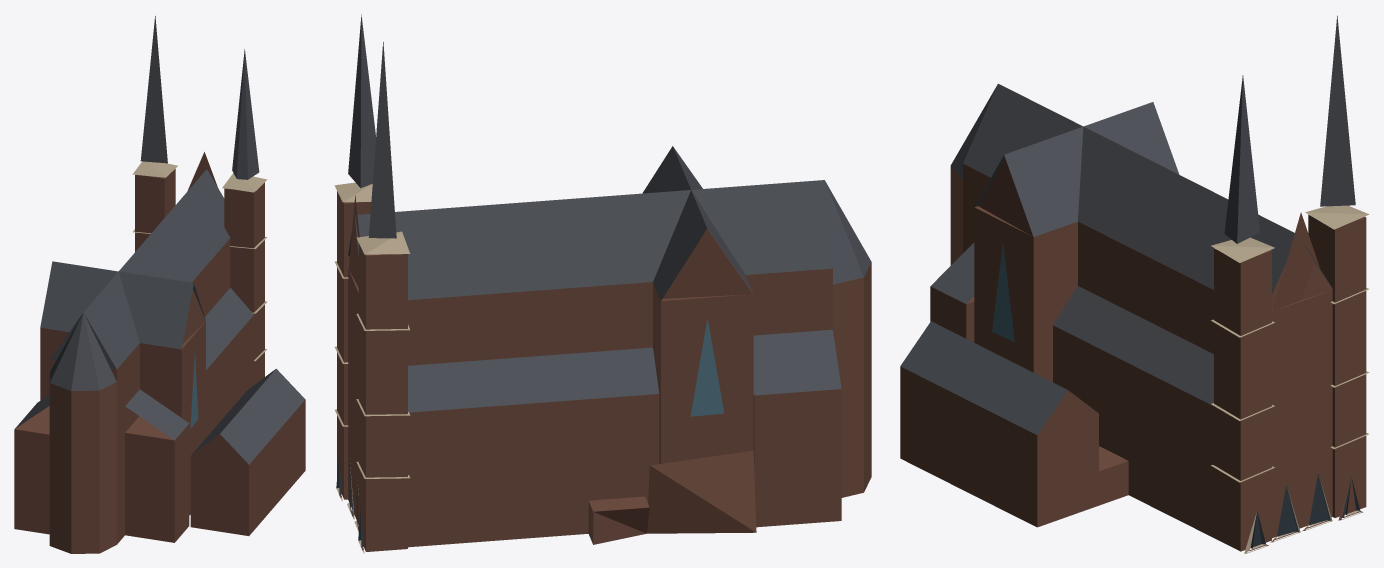
Rendered from krijtberg.lod2.glb.
The picture shows the model from 3 angles, left to right: view 1: azimuth 30°, elevation 25°; view 2: azimuth 150°, elevation 25°; view 3: azimuth 270°, elevation 25°; orthographic projection. The views are drawn at different scales.
Visible parts, largest first — view 1: lod2; view 2: lod2; view 3: lod2.
Boxes of the visible parts, x1,y1,x2,y2 form: lod2: [14, 16, 305, 553]; lod2: [334, 14, 871, 553]; lod2: [900, 15, 1369, 553].
Bounding box in the file's own units: 49.09 × 56.4 × 48.44.
